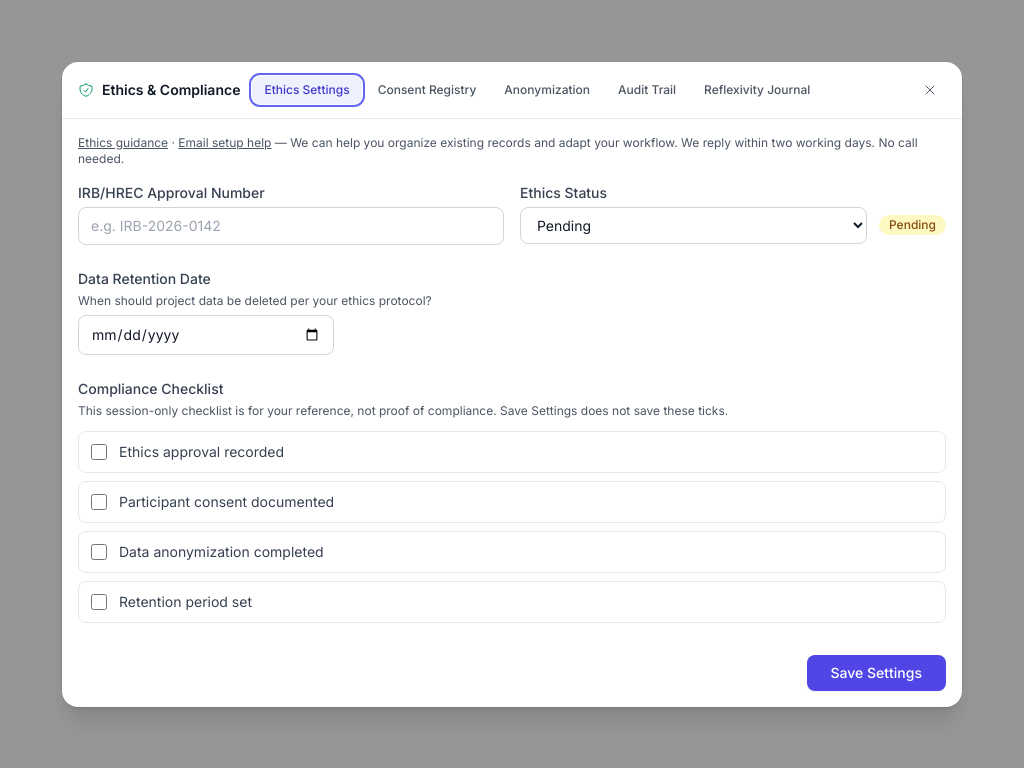
ethics panel truthful reads and teaching › does not treat malformed consent as an empty list
Expected: the button "Save Settings" is shown, [807,654,946,690]
Click the button "Consent Registry" at (427, 90), box [366,76,488,104]
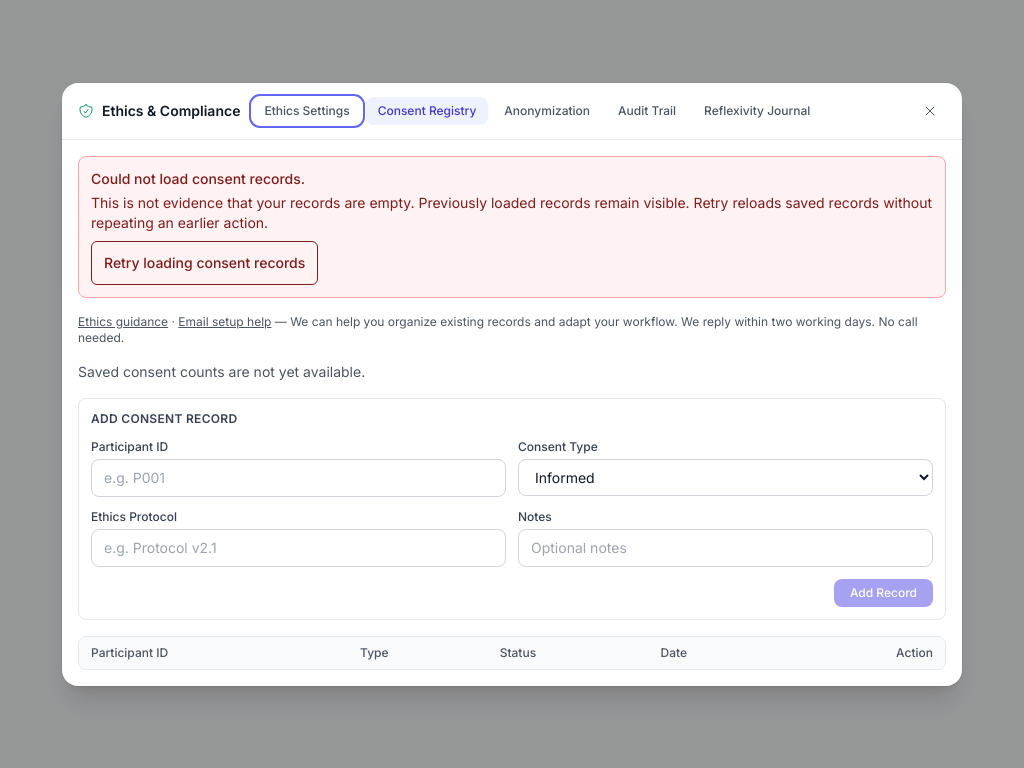
Expected: the message shows "Could not load consent records", [78,156,946,298]
